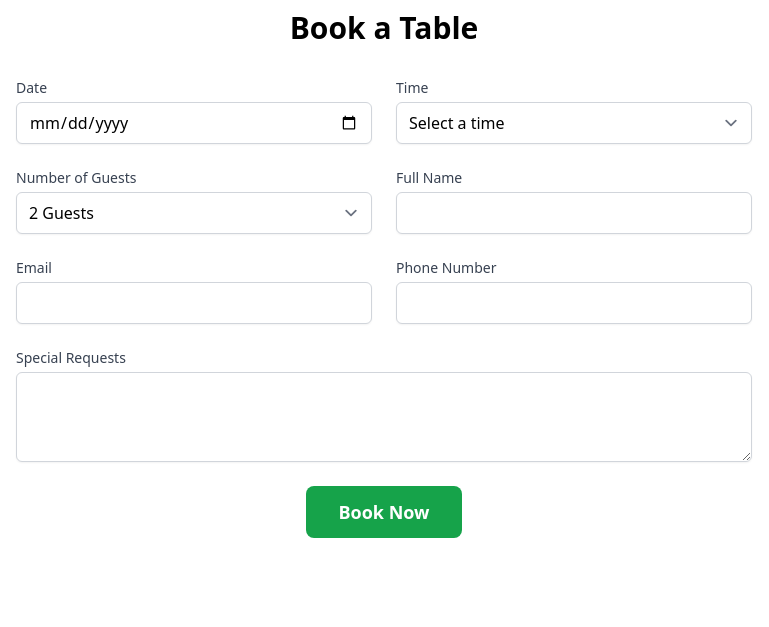
Test: Booking Component › validates phone format
Type "123" into the field labelled "Phone Number" at [574, 303], box [396,282,752,324]
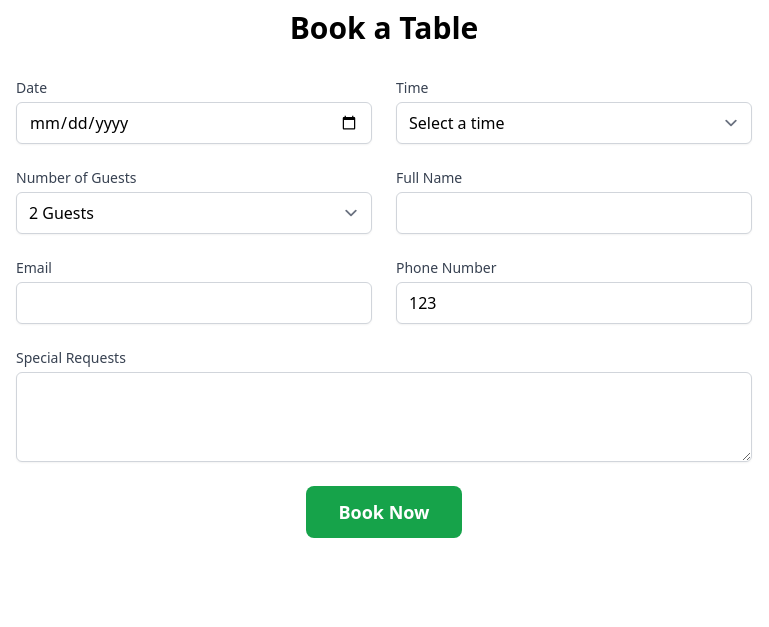
Click the button "Book Now" at [384, 512], box [306,486,462,538]
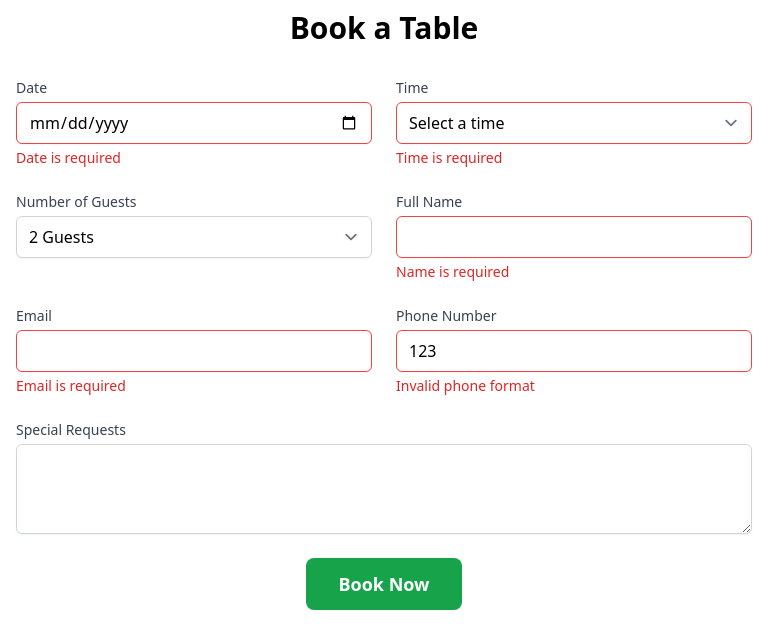
Expected: the text "Invalid phone format" is shown, [396,376,535,395]
